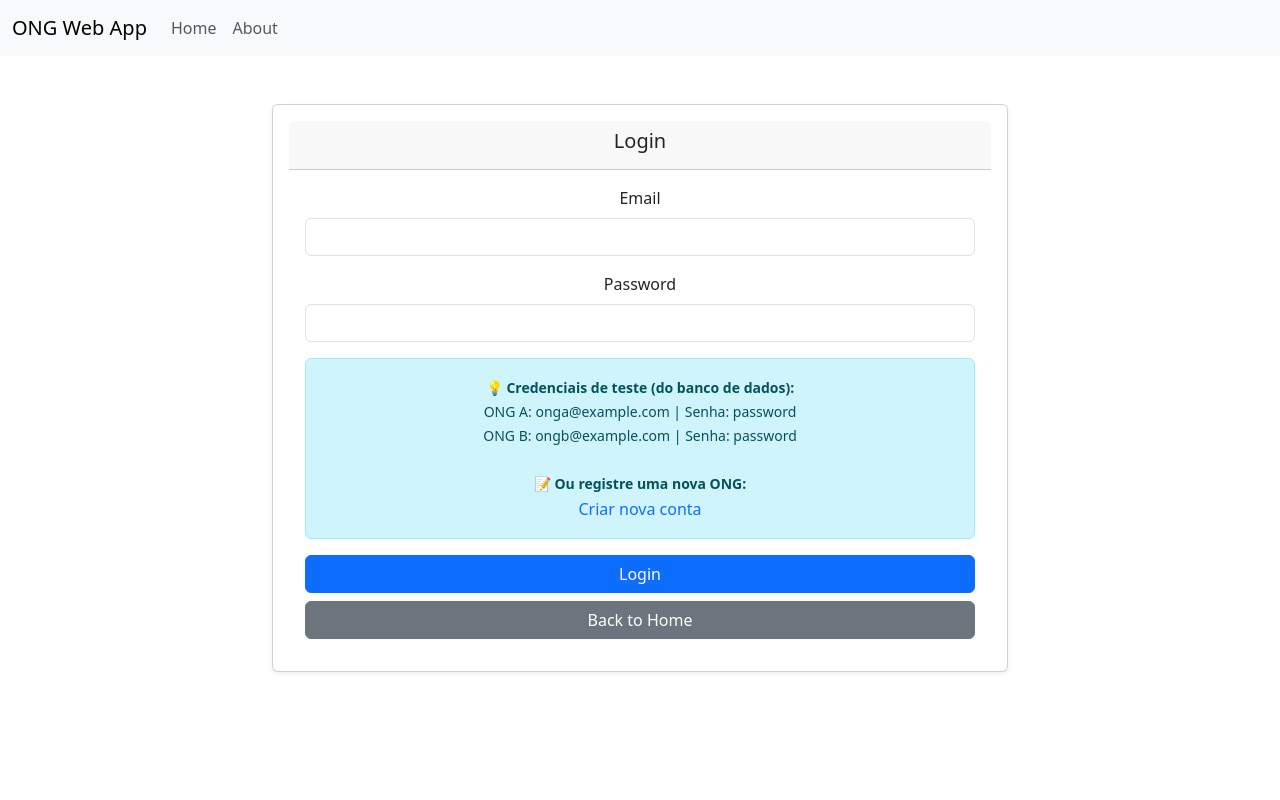
Test: Login page flow › failed login shows error
In the field labelled "Email": (640, 237) [305, 218, 975, 256], type "alice@example.com"
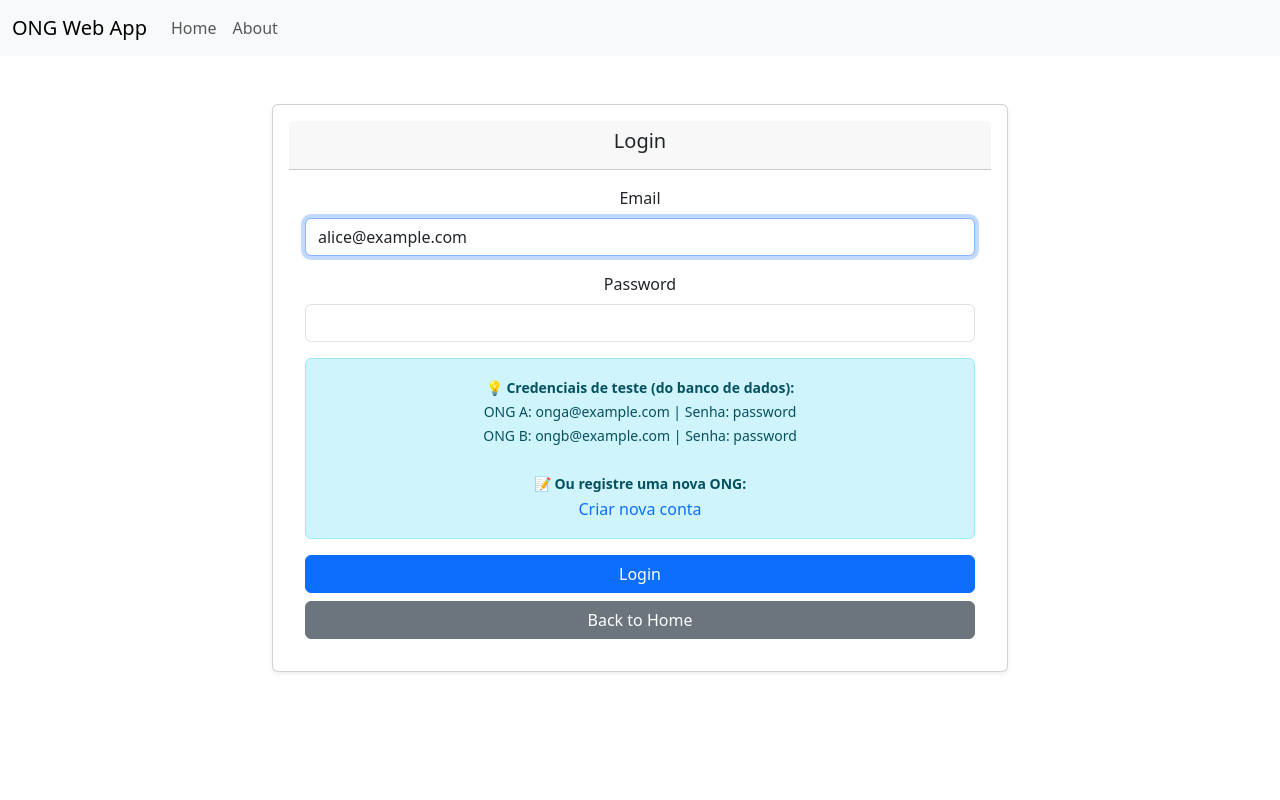
In the password field labelled "Password": (640, 323) [305, 304, 975, 342], type "wrong"
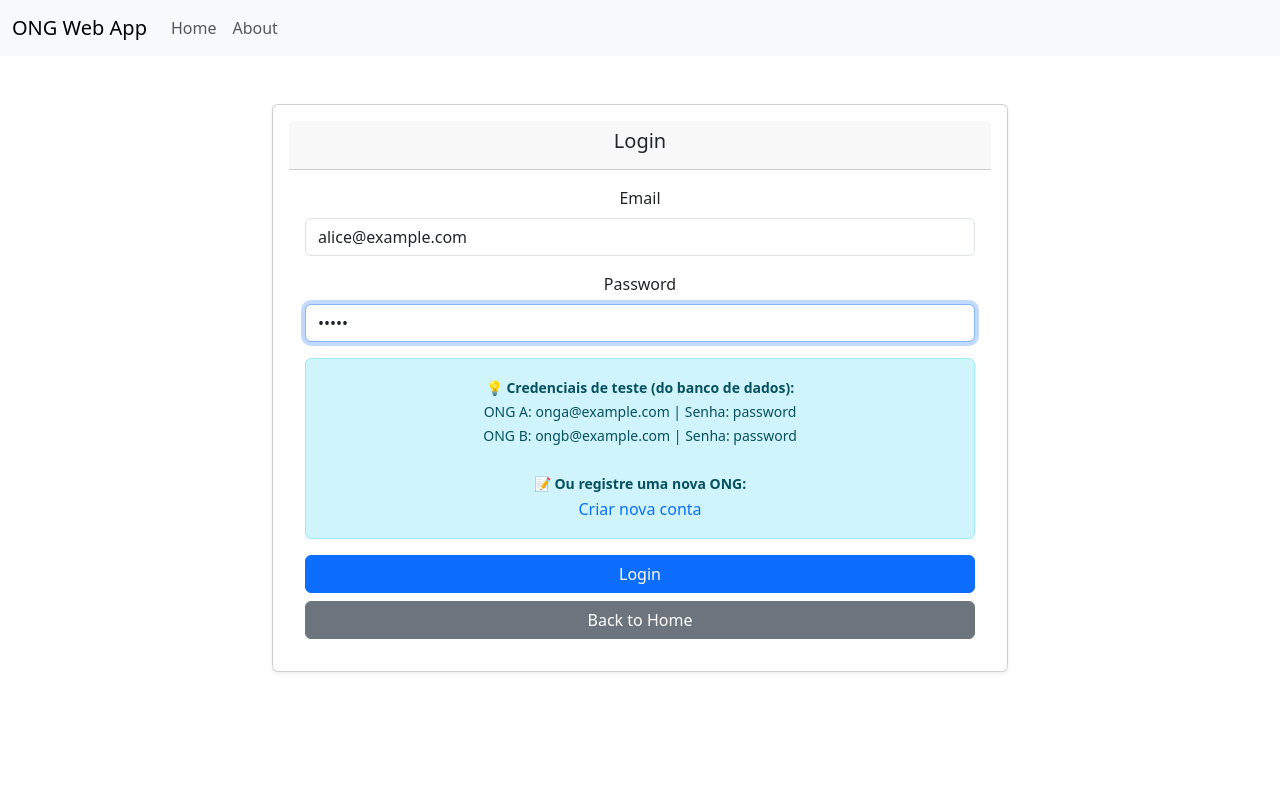
Click the button "Login": (640, 574) [305, 555, 975, 593]
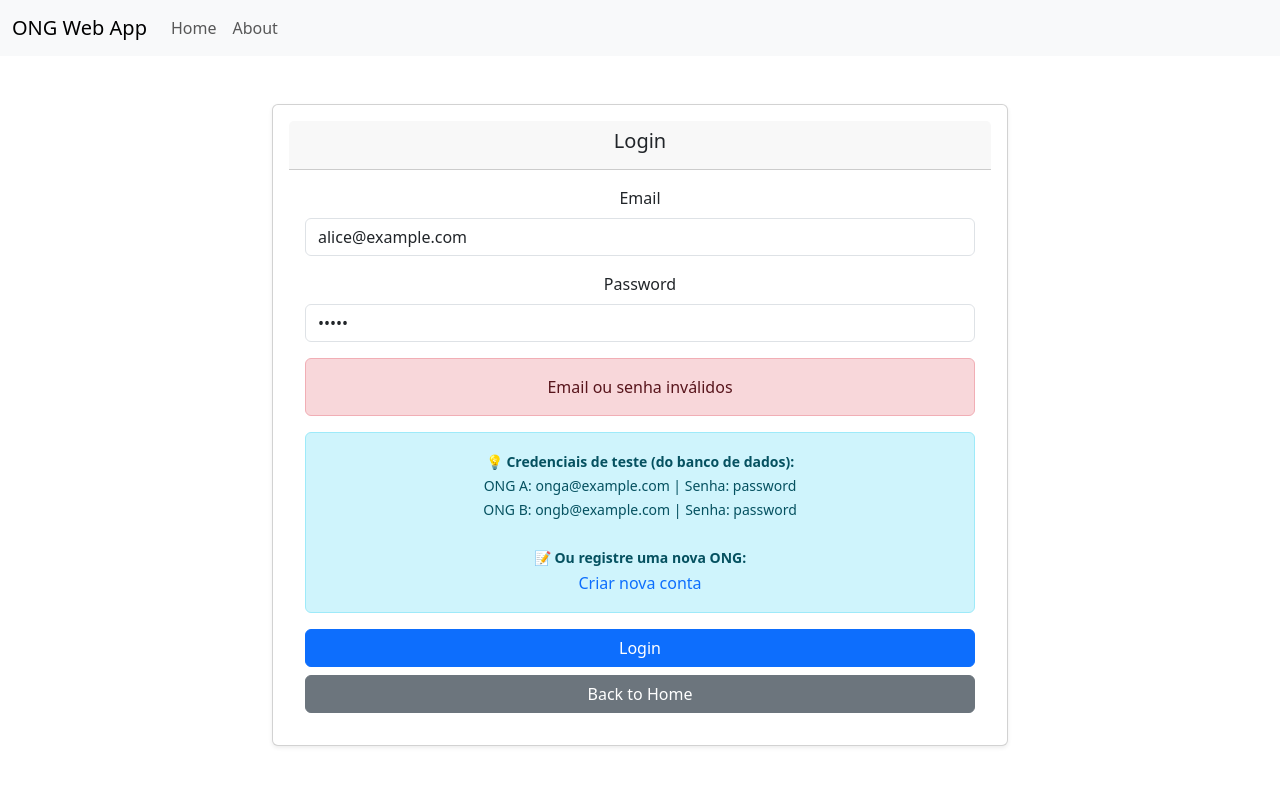
Check: the text "Email ou senha inválidos" is shown, box [305, 358, 975, 416]
